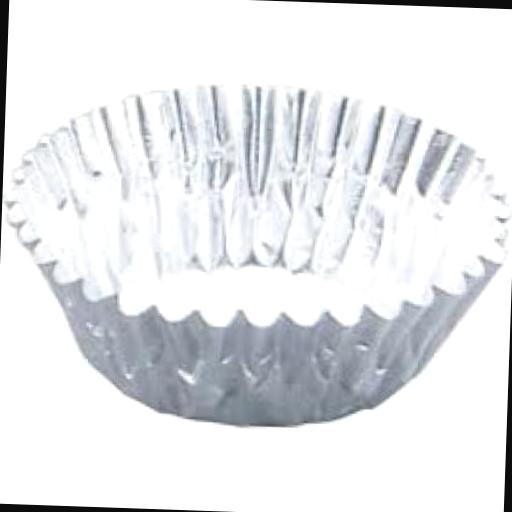metal: (0, 71, 511, 434)
